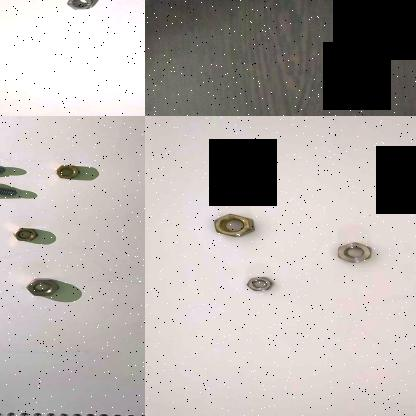Bolts: (0, 178, 26, 206)
NUTS: (209, 211, 252, 239), (24, 273, 64, 302), (332, 240, 376, 264), (2, 221, 34, 245), (239, 276, 280, 292), (53, 164, 86, 182), (62, 0, 95, 13)
